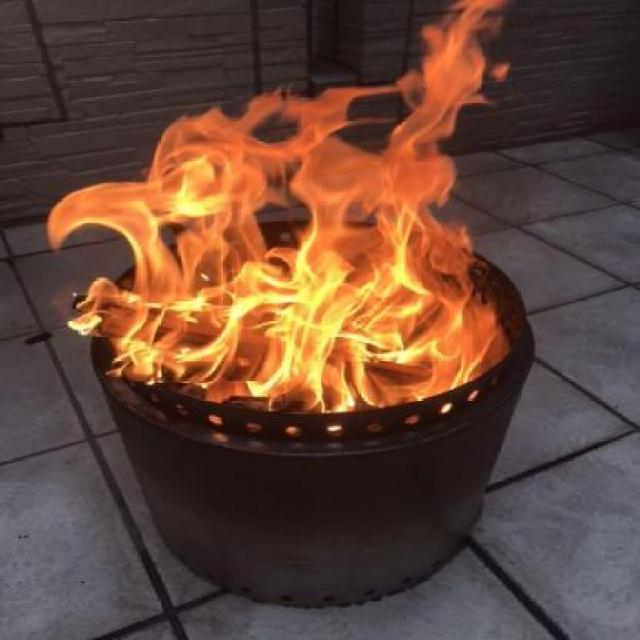Fire: (44, 0, 513, 407)
